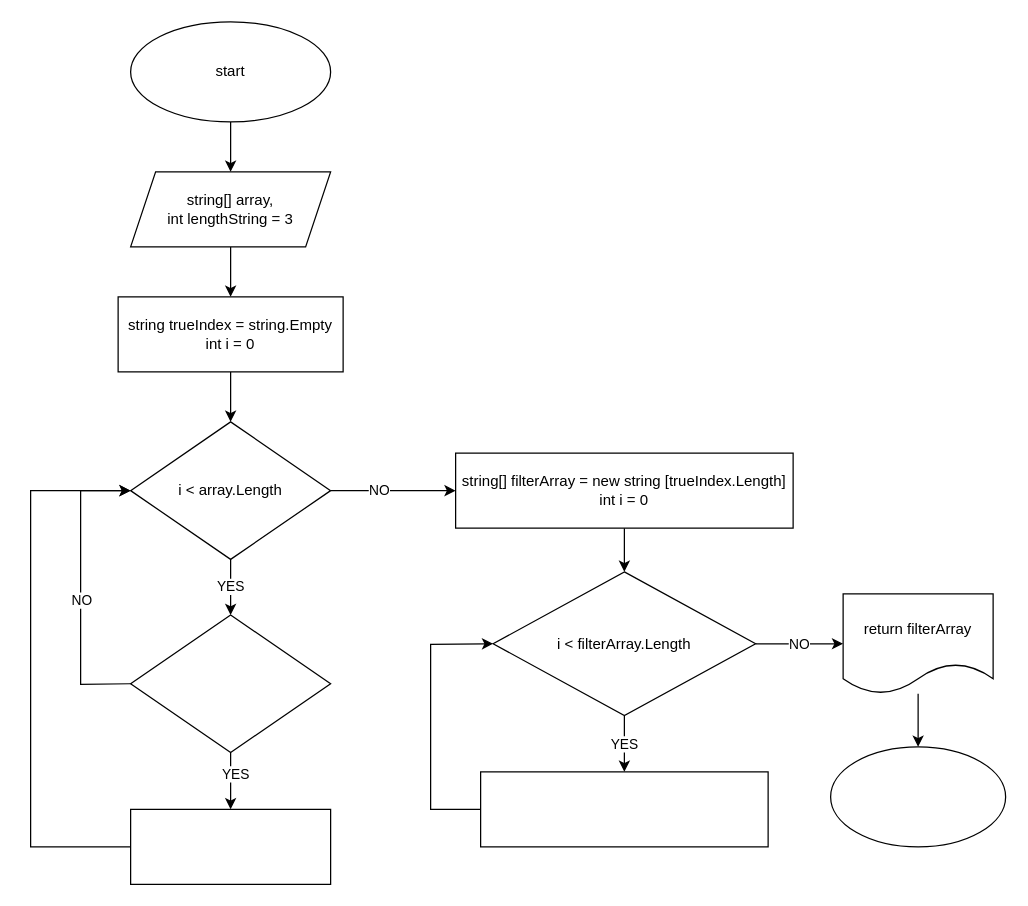
The diagram is 1028 pixels wide and 906 high, and some of its shapes have lost their labels. Here are the shapes that lost their labels. From the top down, the centre of each, then its label:
At (230,683): "array[i] <= lengthString".
At (623,809): "filterArray[i] = array[int.Parse(trueIndex[i].ToString())]".
At (917,796): "end".
At (230,846): "trueIndex += i.ToString()".
